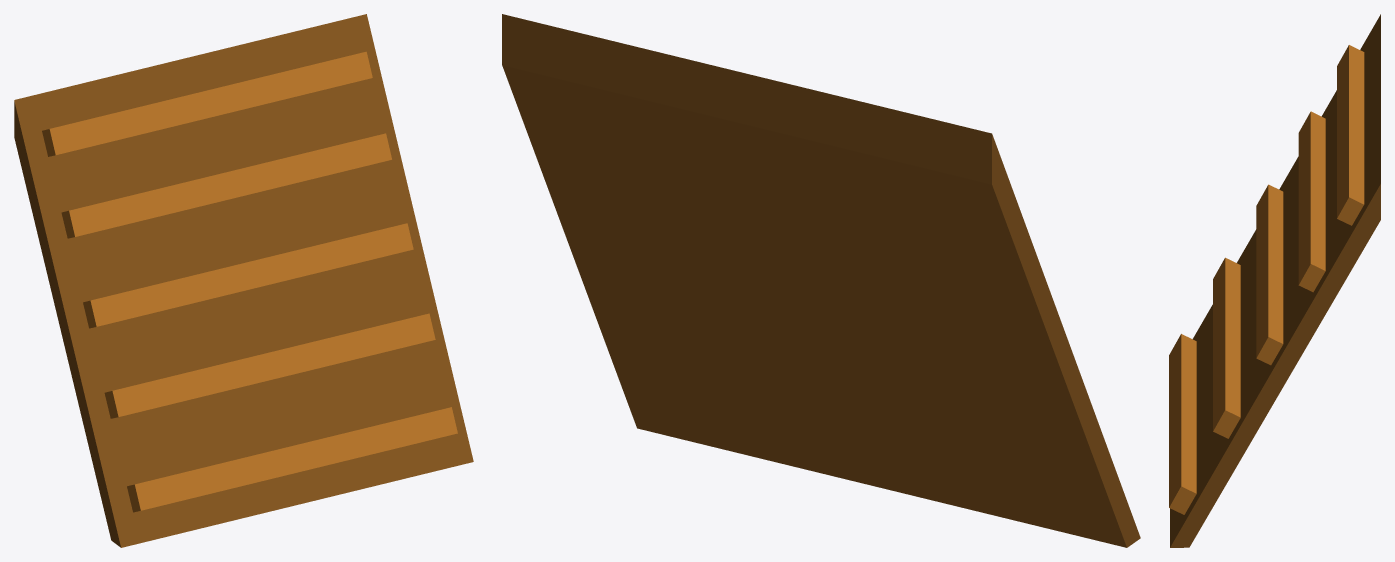
The model's file is ramp.glb.
The picture shows the model from 3 angles, left to right: view 1: azimuth 30°, elevation 25°; view 2: azimuth 150°, elevation 25°; view 3: azimuth 270°, elevation 25°; orthographic projection. The views are drawn at different scales.
Visible parts, largest first — view 1: Cube, Cube.005, Cube.001, Cube.002, Cube.003, Cube.004; view 2: Cube; view 3: Cube, Cube.005, Cube.001, Cube.002, Cube.003, Cube.004.
Boxes of the visible parts, <box> form: Cube: <box>14,14,473,547</box>; Cube.005: <box>104,313,435,418</box>; Cube.001: <box>127,407,457,512</box>; Cube.002: <box>42,51,372,156</box>; Cube.003: <box>83,223,413,328</box>; Cube.004: <box>61,133,391,238</box>; Cube: <box>502,14,1140,547</box>; Cube: <box>1170,14,1380,547</box>; Cube.005: <box>1213,257,1240,438</box>; Cube.001: <box>1169,334,1196,514</box>; Cube.002: <box>1337,45,1364,225</box>; Cube.003: <box>1256,184,1283,365</box>; Cube.004: <box>1298,111,1325,292</box>.
Size of the model in its own units: 1 by 1 by 0.5278.
